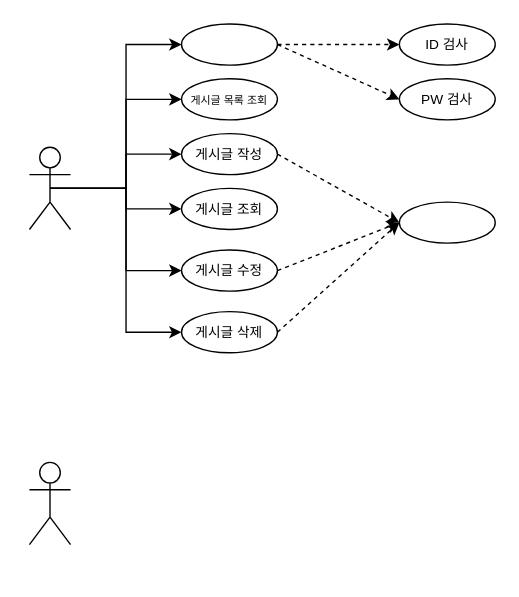
This 519x597 diagram has some shape labels left out. The shapes that lost their labels are listed below. From the top down, each one's centre as x and y in pixels, then its label:
pixel 228 44: 회원가입
pixel 49 187: USER
pixel 446 222: 사용자 인증
pixel 49 503: ADMIN
